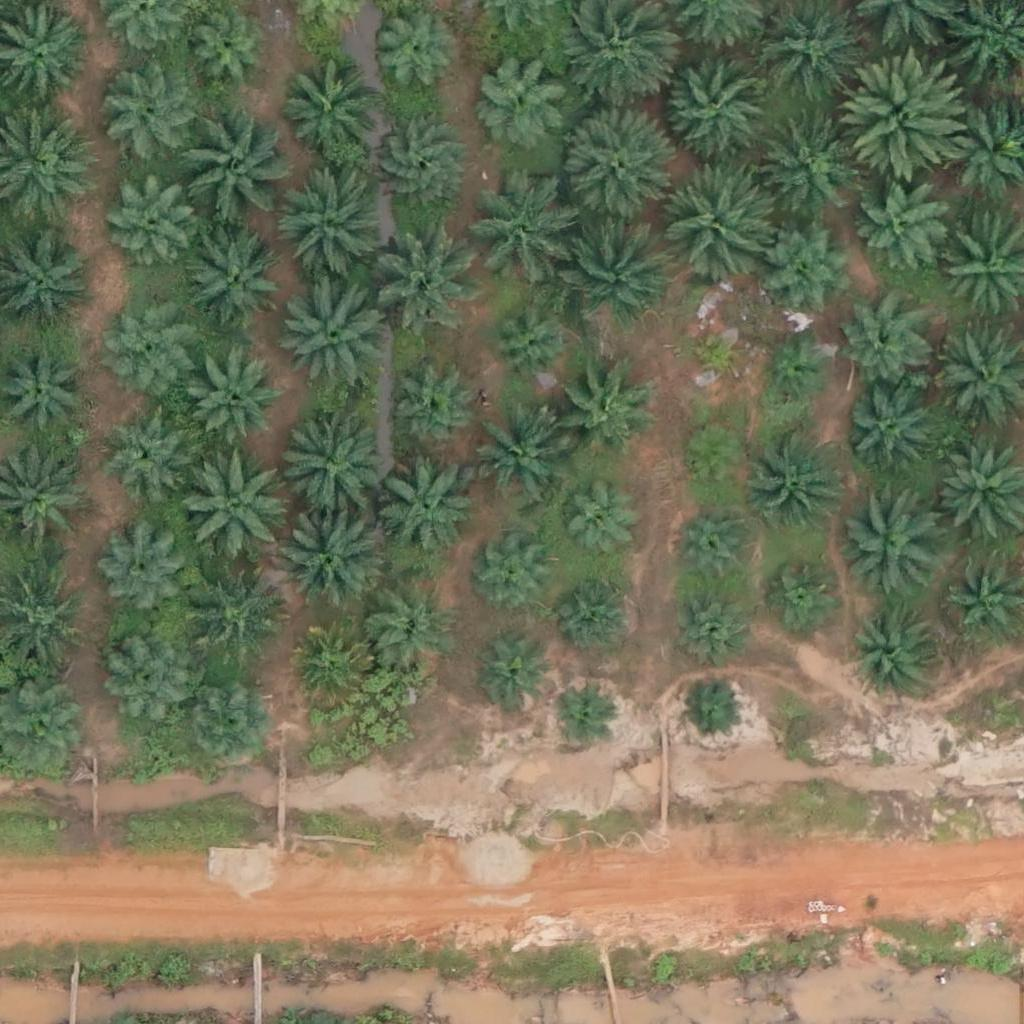Kelapa_Sawit: (845, 54, 970, 180), (271, 275, 384, 389), (660, 47, 773, 160), (557, 108, 670, 221), (276, 502, 389, 615), (268, 406, 381, 519), (557, 210, 669, 324), (274, 171, 386, 285), (176, 448, 288, 562), (658, 165, 770, 278), (368, 216, 480, 329), (172, 110, 284, 223), (757, 113, 857, 214), (759, 214, 859, 315), (551, 362, 651, 463), (465, 411, 565, 512), (465, 183, 565, 284), (375, 459, 475, 560), (278, 59, 378, 160), (181, 227, 281, 328), (183, 564, 283, 665), (102, 64, 202, 165), (750, 428, 850, 529), (842, 493, 942, 593), (472, 49, 572, 149), (370, 117, 470, 217), (839, 301, 927, 389), (664, 584, 752, 672), (283, 622, 371, 710), (486, 300, 574, 388), (193, 360, 281, 448), (95, 528, 183, 616), (842, 388, 929, 477), (106, 635, 193, 724), (851, 608, 938, 696), (857, 181, 944, 269), (674, 503, 761, 591), (369, 7, 456, 95), (391, 369, 478, 457), (368, 589, 455, 677), (182, 11, 269, 99), (184, 681, 271, 769), (96, 406, 183, 494), (105, 294, 192, 382), (108, 179, 195, 267), (557, 486, 632, 562), (559, 574, 634, 650), (758, 334, 833, 410), (677, 421, 752, 497), (765, 556, 840, 631), (477, 541, 552, 616), (475, 641, 550, 716), (548, 682, 611, 745), (681, 678, 743, 741), (684, 322, 746, 385)
